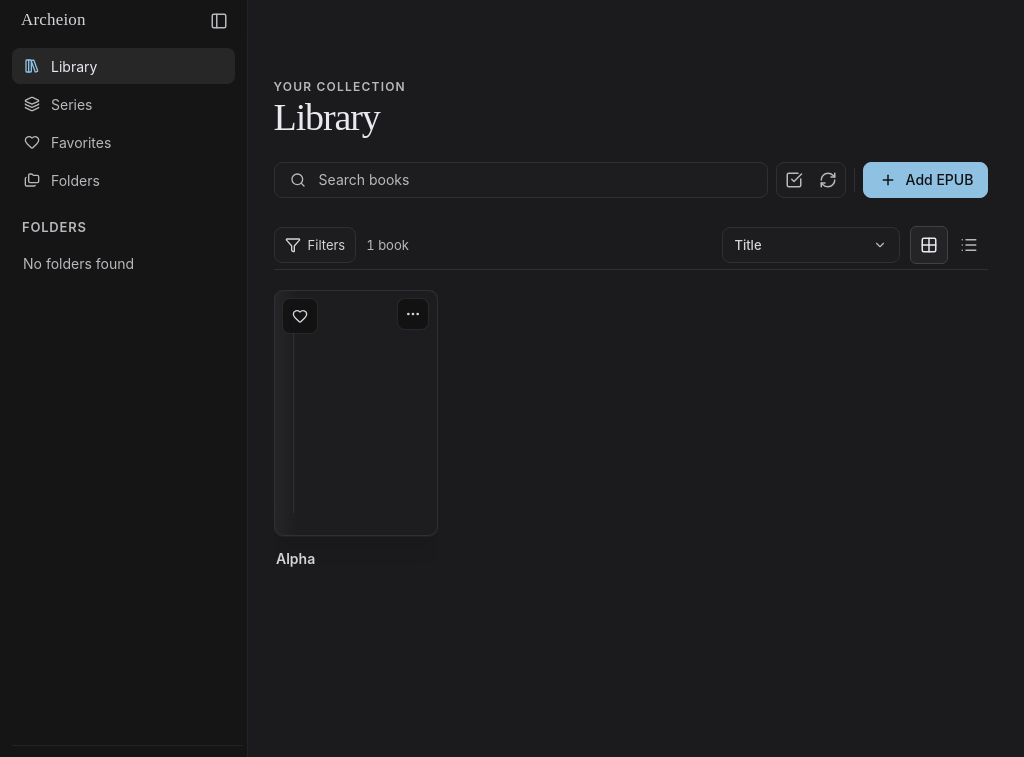
Test: LibraryPage selection and bulk workflows › supports explicit selection mode without opening book details
The image size is (1024, 757).
Click the button named "Select books": (794, 180) [778,164,810,196]
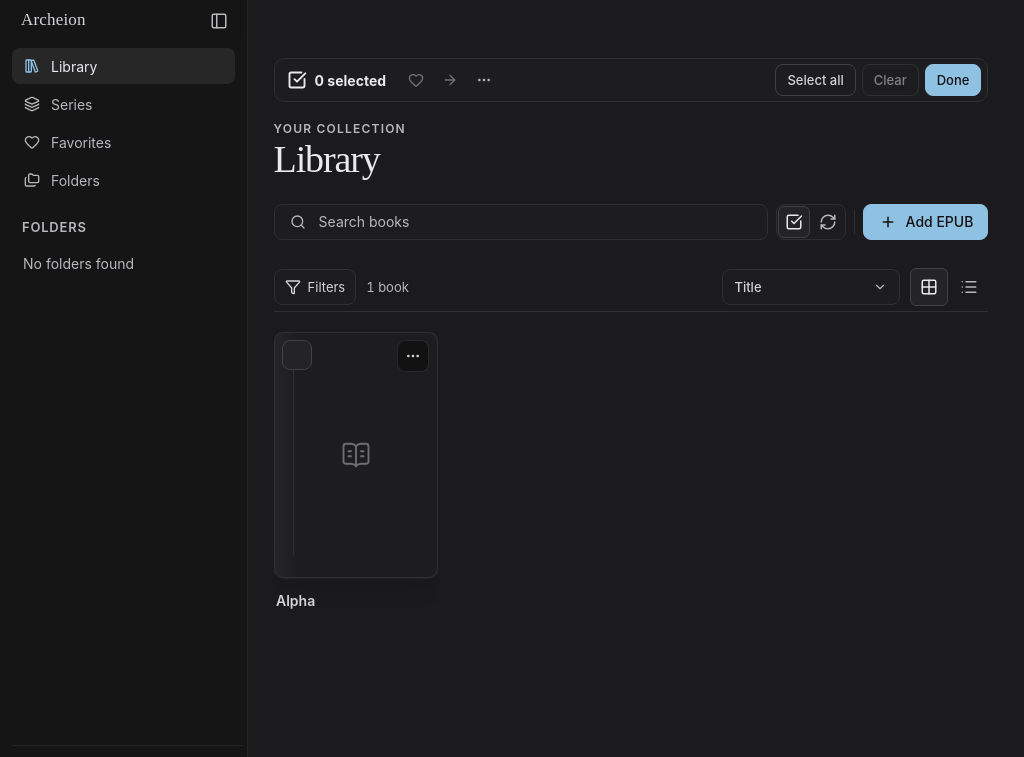
Click the button "Alpha": (355, 494) [274,332,437,655]
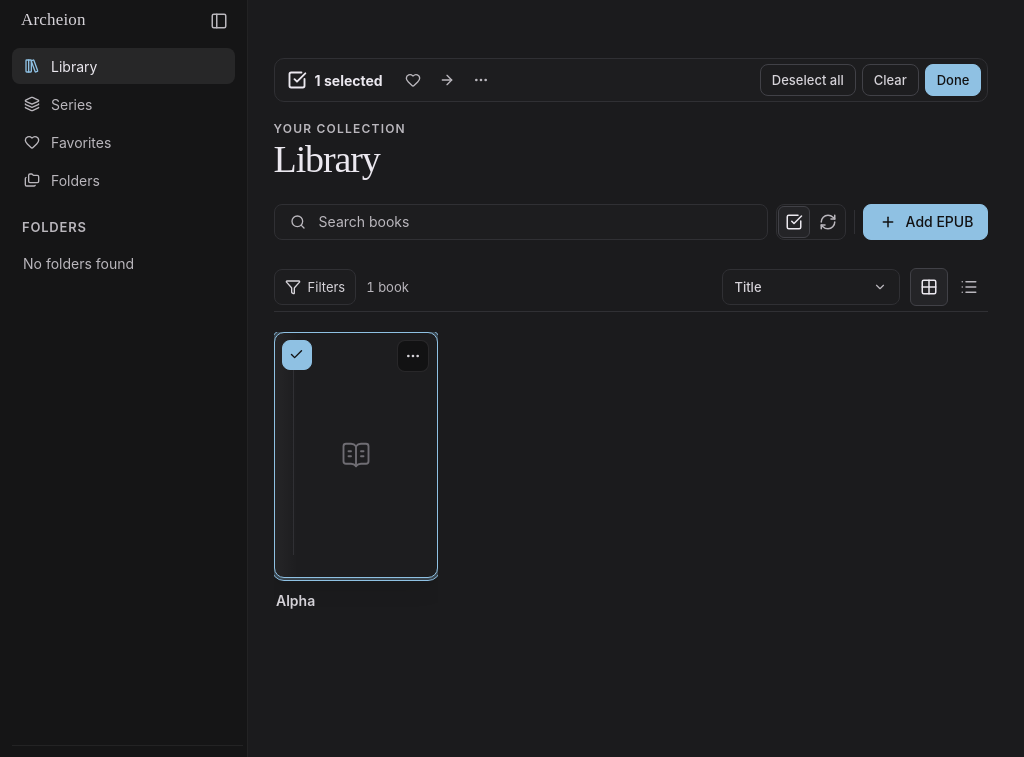
Check: the element with class "library-selection-bar" shows "1 selected", box [274,58,988,102]
